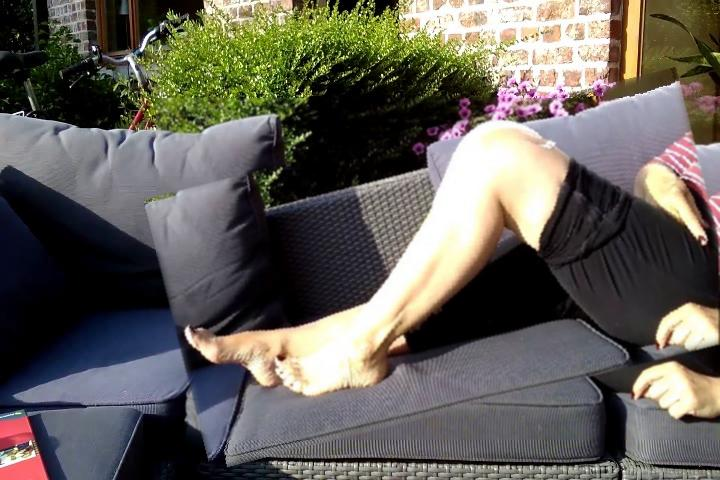lower_body: (157, 99, 720, 441)
